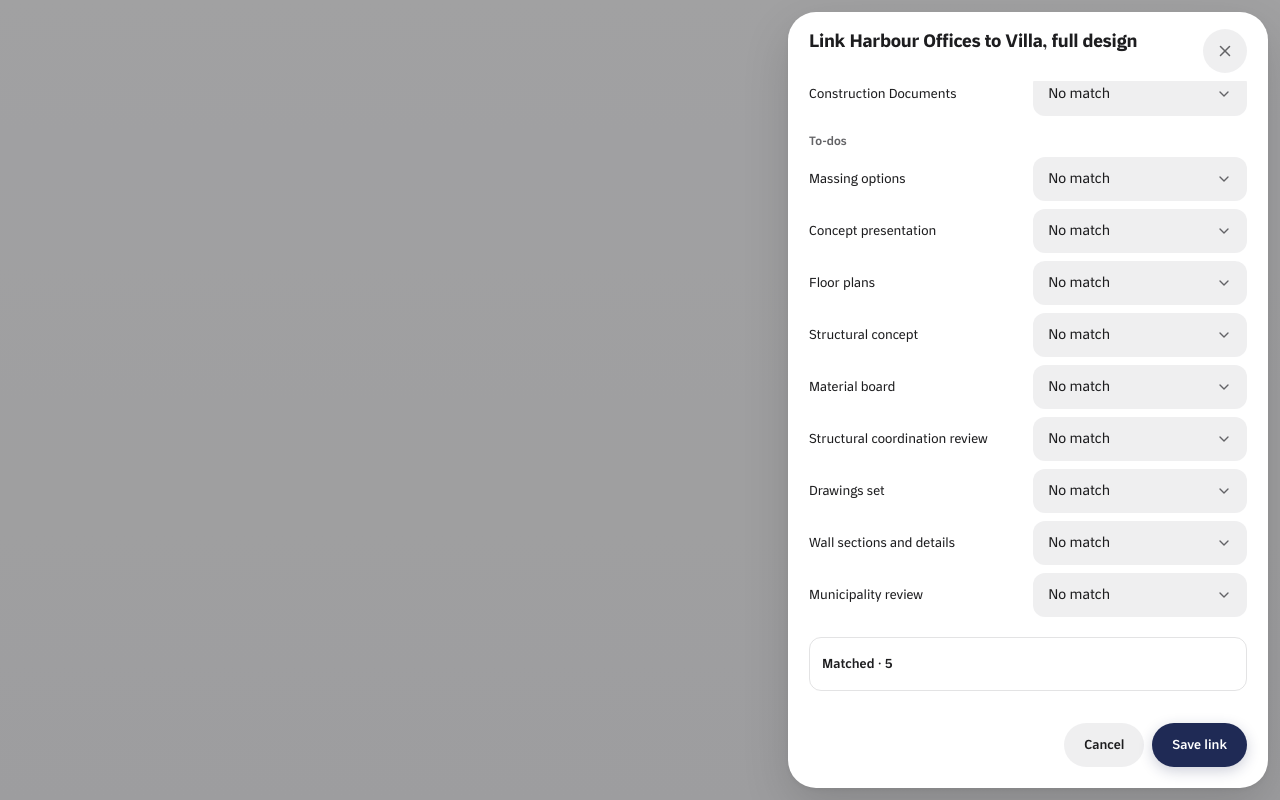
Test: Link an older project › says the lead rule and the dates of the new parts only after the Admin picks "Add them" (fbk_020)
(page scrolled)
Click the heading "Matched · 5": click(857, 663) x1=822 y1=655 x2=893 y2=671
(page scrolled)
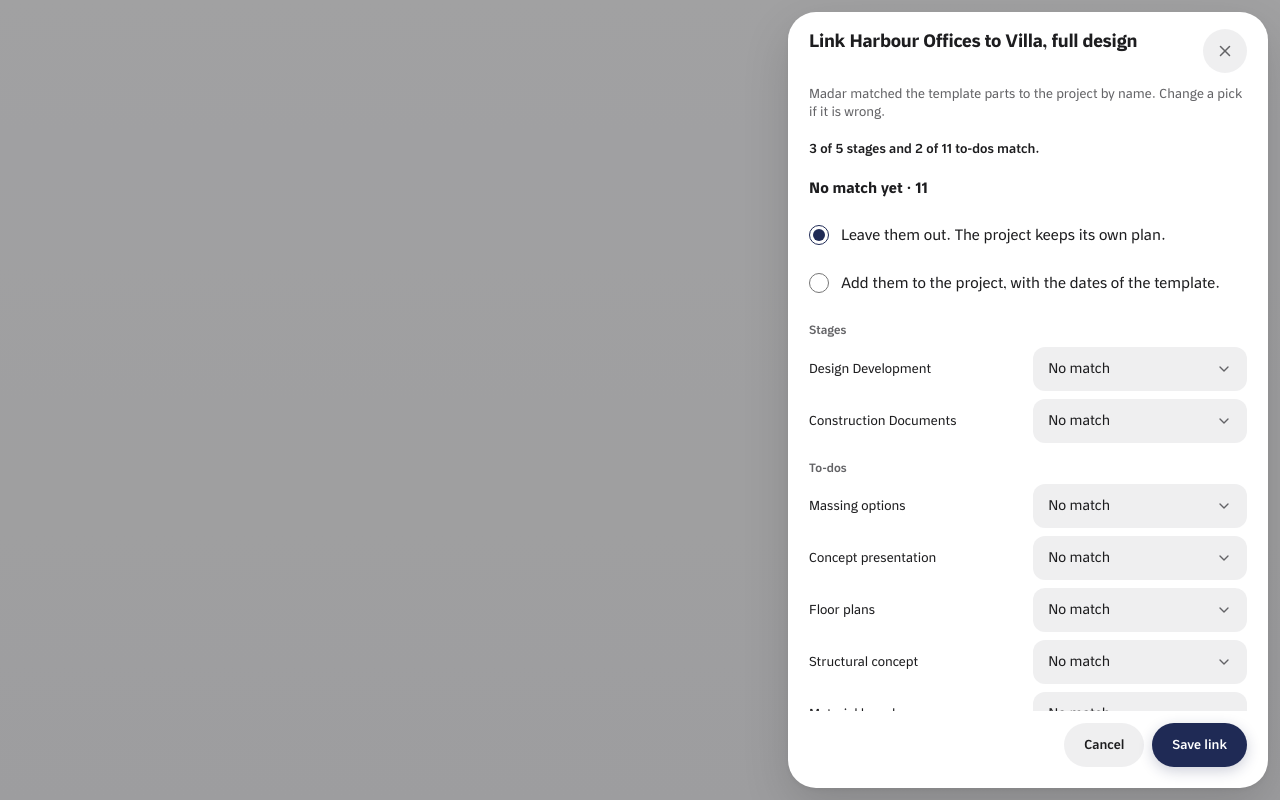
Expected: the text "Each new to-do gets the default person of its role as lead" is not shown
Click the radio button labelled "Add them to the project, with the dates of the template.": click(819, 283) x1=809 y1=273 x2=829 y2=293
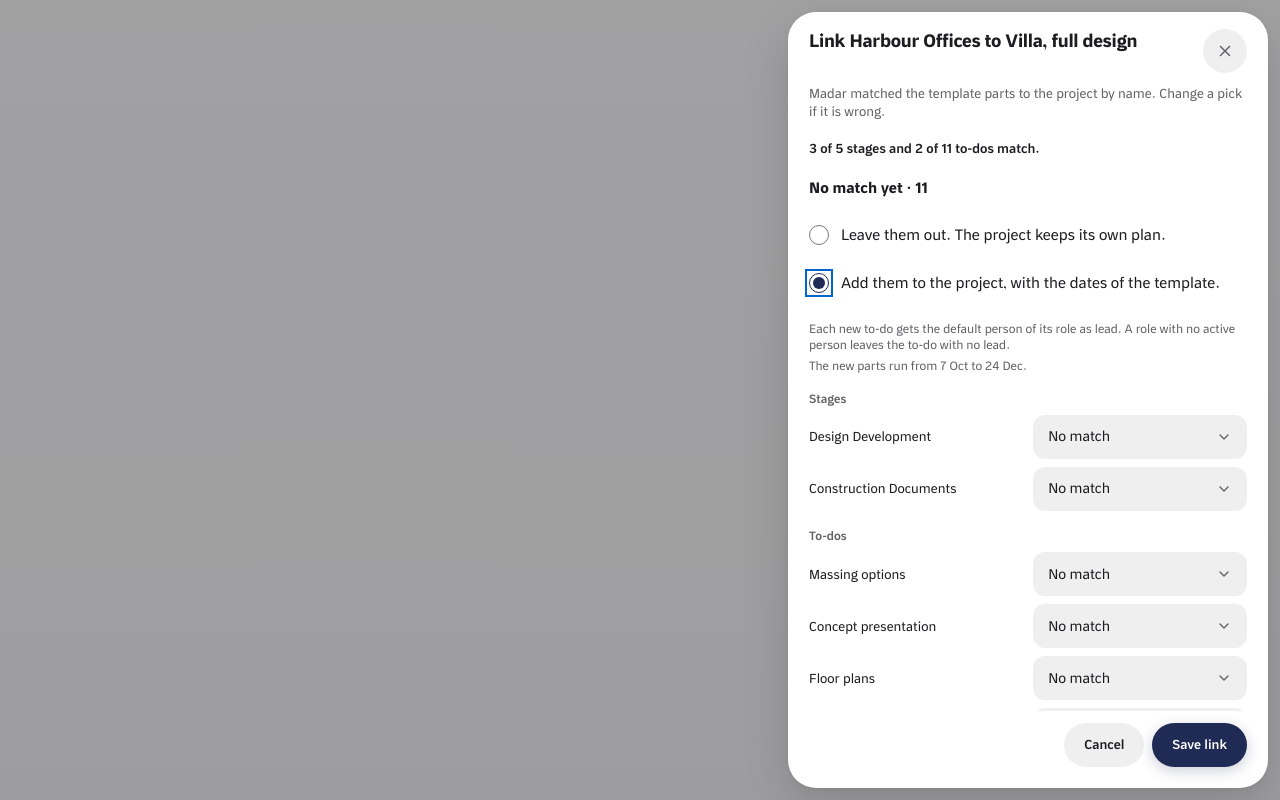
Expected: the text "Each new to-do gets the default person of its role as lead" is shown, x1=809 y1=321 x2=1235 y2=352
Expected: the text "The new parts run from 7 Oct to 24 Dec." is shown, x1=809 y1=358 x2=1027 y2=372
